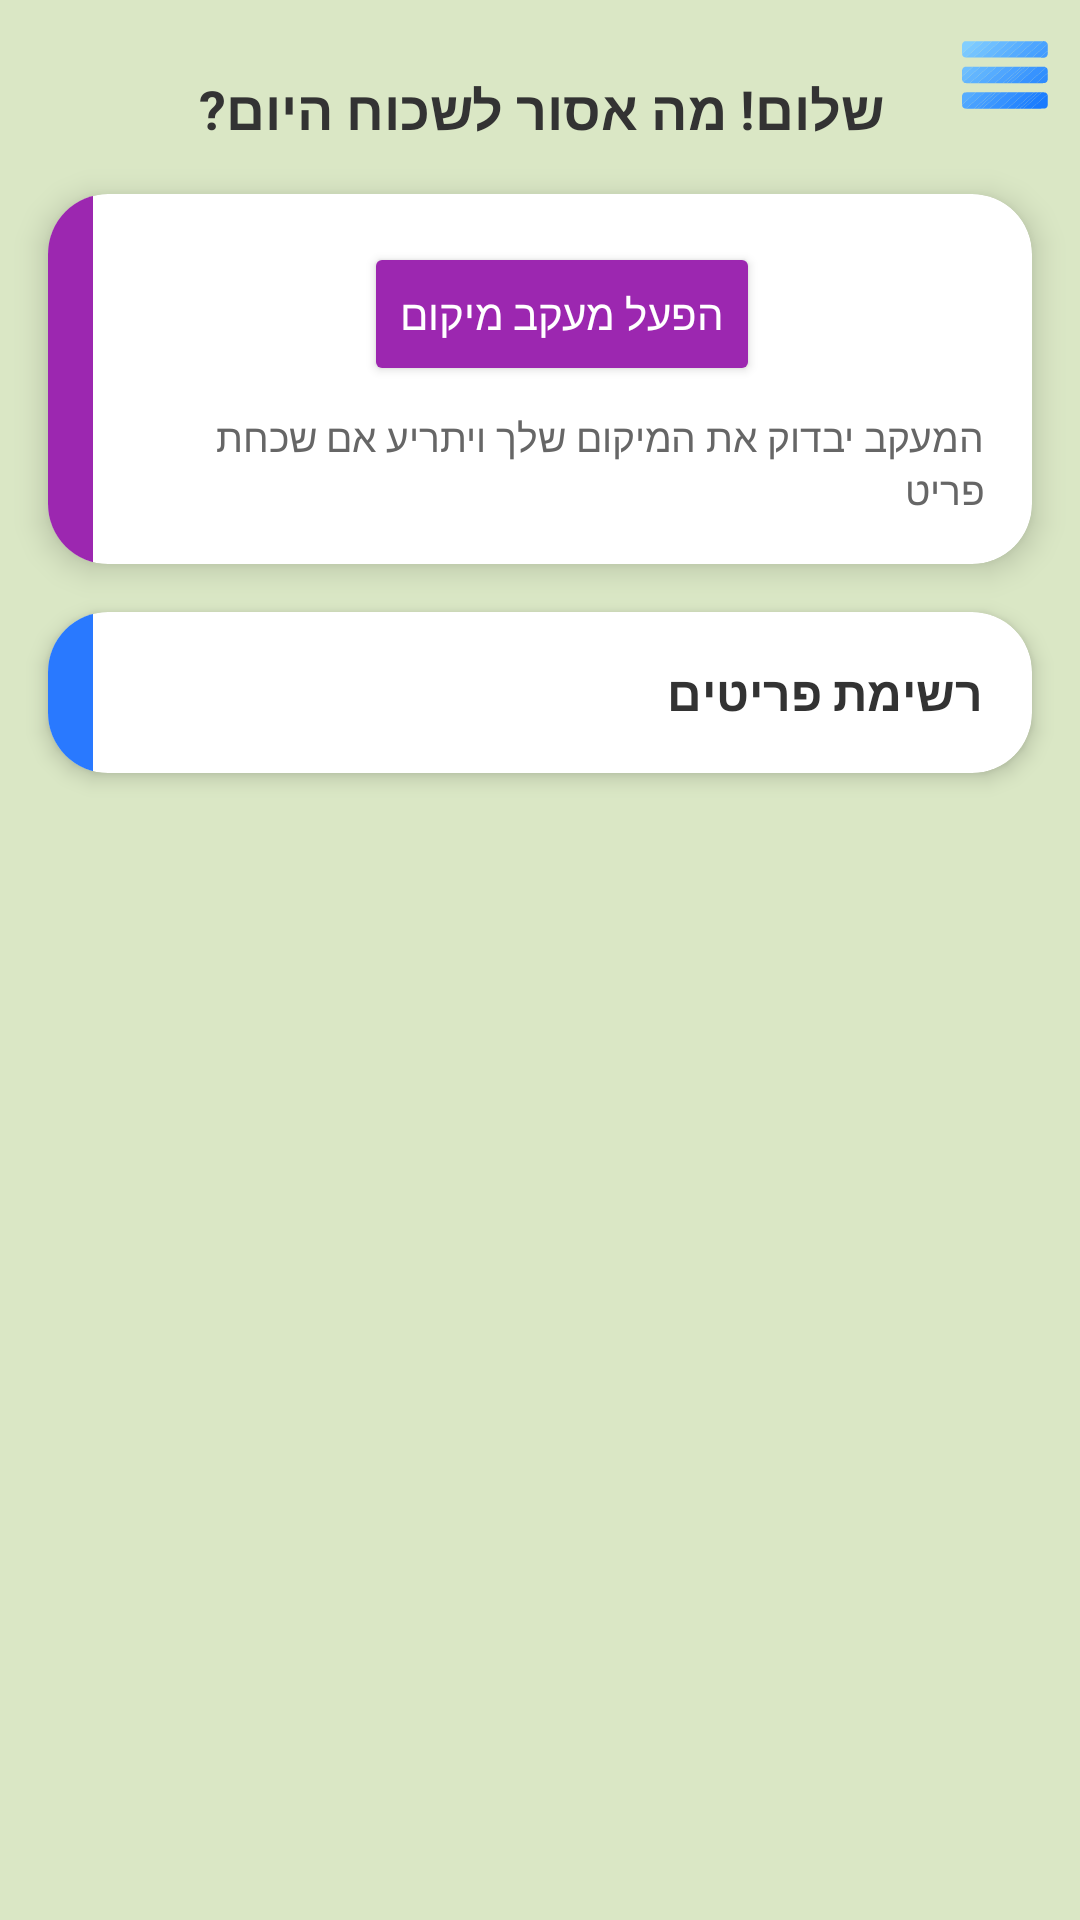

Screen size 1080*1920. Icon name, then its center in pixels as point (x, y):
menu: point (1005, 75)
